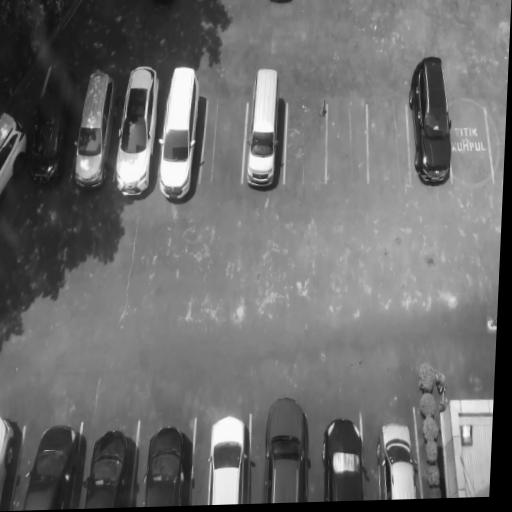Car: (404, 43, 458, 189), (159, 55, 206, 209), (115, 53, 160, 202), (242, 61, 289, 197), (19, 415, 84, 511), (29, 53, 74, 190), (72, 56, 115, 193), (261, 385, 310, 502), (82, 416, 142, 508), (143, 414, 196, 506), (206, 408, 252, 504), (323, 407, 367, 500), (378, 410, 422, 499), (0, 96, 33, 203), (0, 409, 28, 511), (261, 0, 296, 16)
Space Available: (199, 88, 248, 192), (447, 92, 499, 186), (363, 96, 415, 183), (284, 90, 329, 185), (327, 97, 372, 191), (295, 0, 332, 11), (441, 0, 479, 9), (331, 0, 368, 9), (405, 0, 441, 8), (370, 0, 407, 5), (414, 131, 416, 132)
